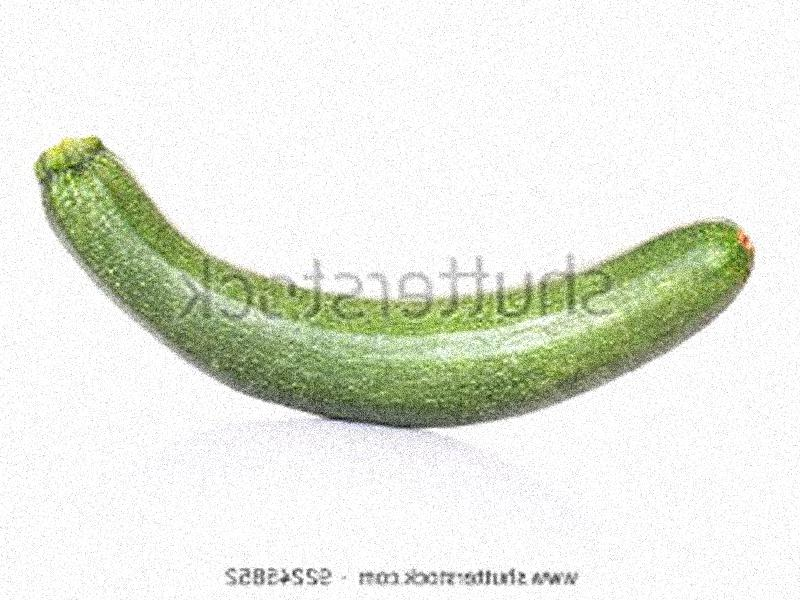Cucumber: (38, 135, 753, 426)
